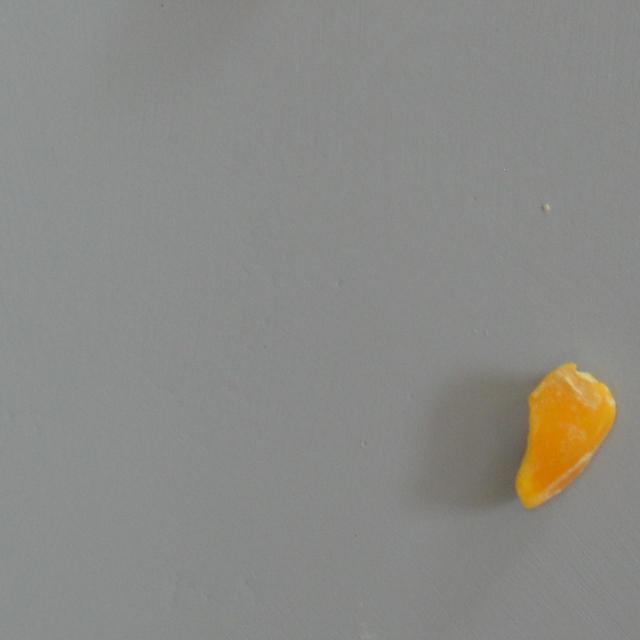pelicula: (511, 357, 616, 508)
